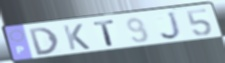5: (184, 8, 214, 37)
9: (126, 16, 151, 45)
D: (27, 26, 61, 57)
J: (160, 10, 184, 41)
K: (61, 23, 92, 51)
T: (92, 19, 117, 47)
